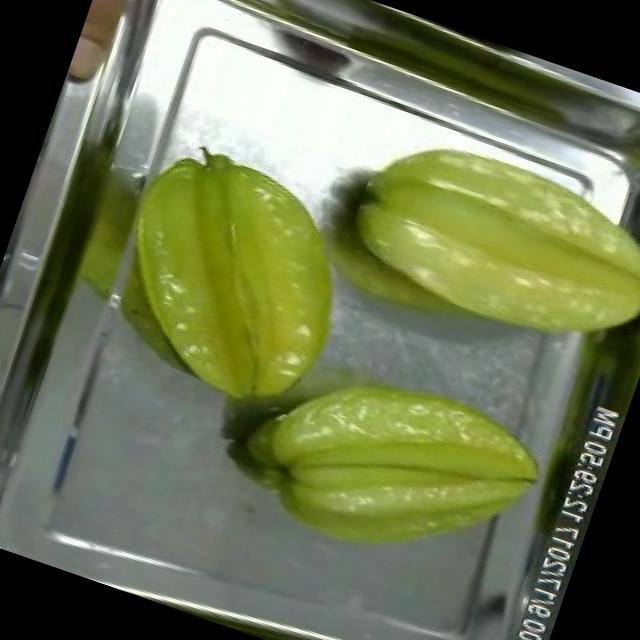fruit: (218, 328, 570, 610), (75, 123, 388, 440), (315, 98, 640, 387)
